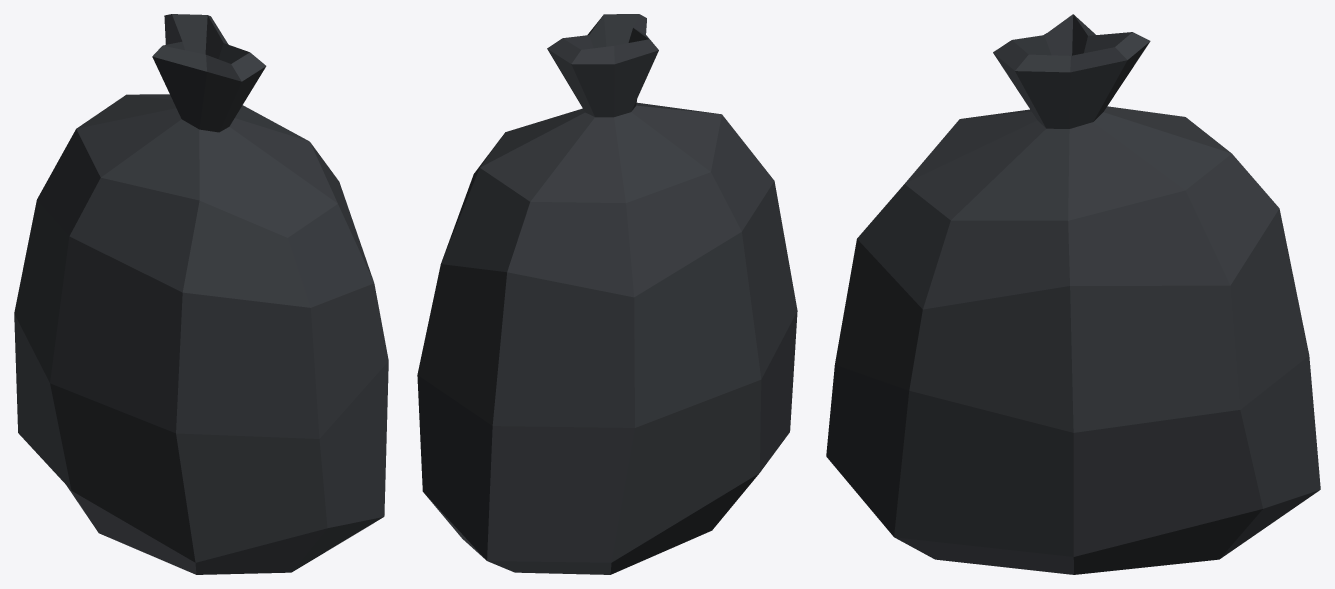
Rendered from SM_Prop_TrashBag_01.glb.
3 renders of one model, left to right at view 1: azimuth 30°, elevation 25°; view 2: azimuth 150°, elevation 25°; view 3: azimuth 270°, elevation 25°, orthographic. The views are drawn at different scales.
Visible parts, largest first — view 1: SM_Prop_TrashBag_01; view 2: SM_Prop_TrashBag_01; view 3: SM_Prop_TrashBag_01.
Part boxes in pixels (x1,y1,x2,y2): SM_Prop_TrashBag_01: (14, 14, 388, 574); SM_Prop_TrashBag_01: (417, 14, 797, 574); SM_Prop_TrashBag_01: (826, 14, 1320, 574).
Bounding box in the file's own units: 0.00612 × 0.00905 × 0.00829.
Materials: 1 (1 with a texture image).
